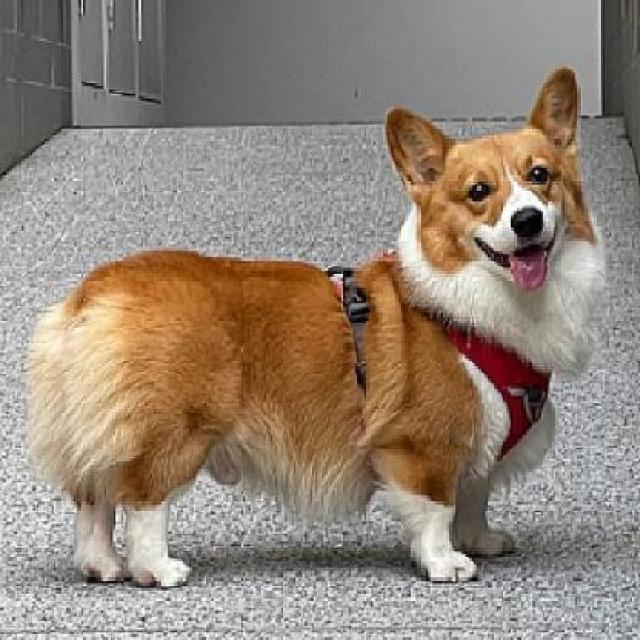Dog: (8, 66, 606, 597)
